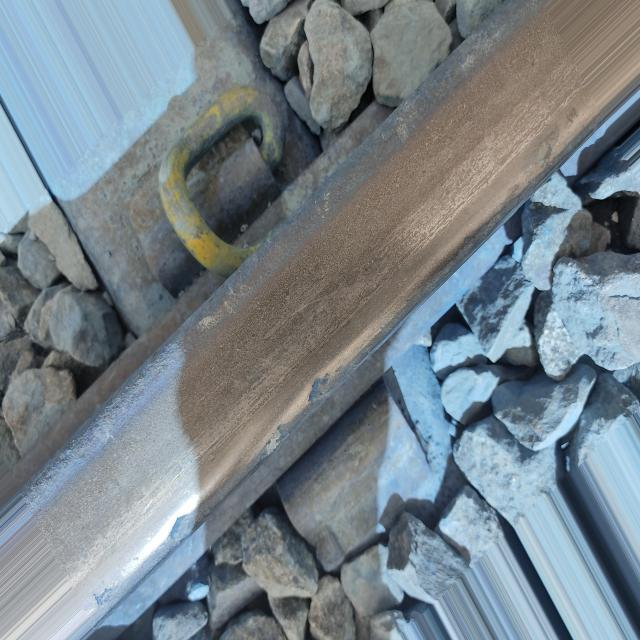squats_high: (263, 420, 292, 456), (169, 509, 193, 547), (308, 374, 328, 408), (95, 586, 115, 612)
